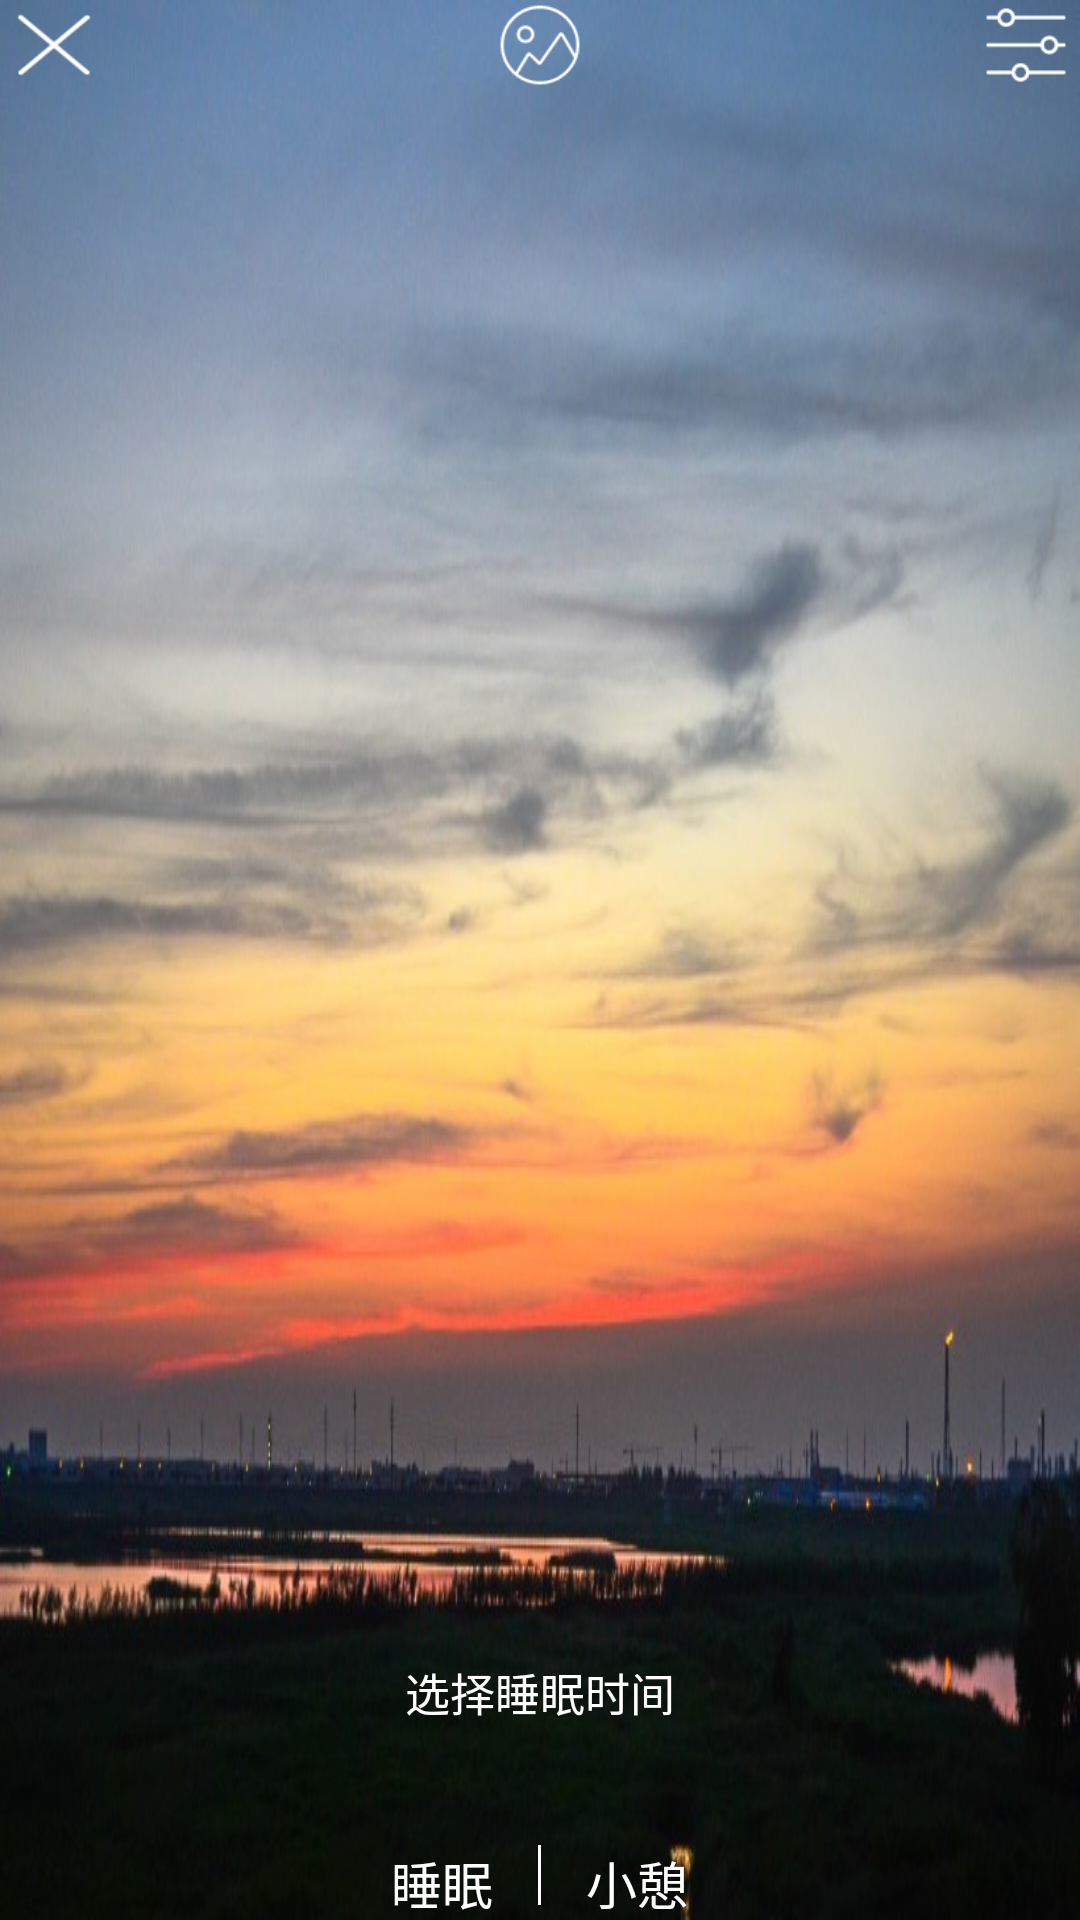

Where to tap for icons on this 1080px x 1920px app screen, as point (x, y):
close: point (54, 45)
set: point (1026, 45)
